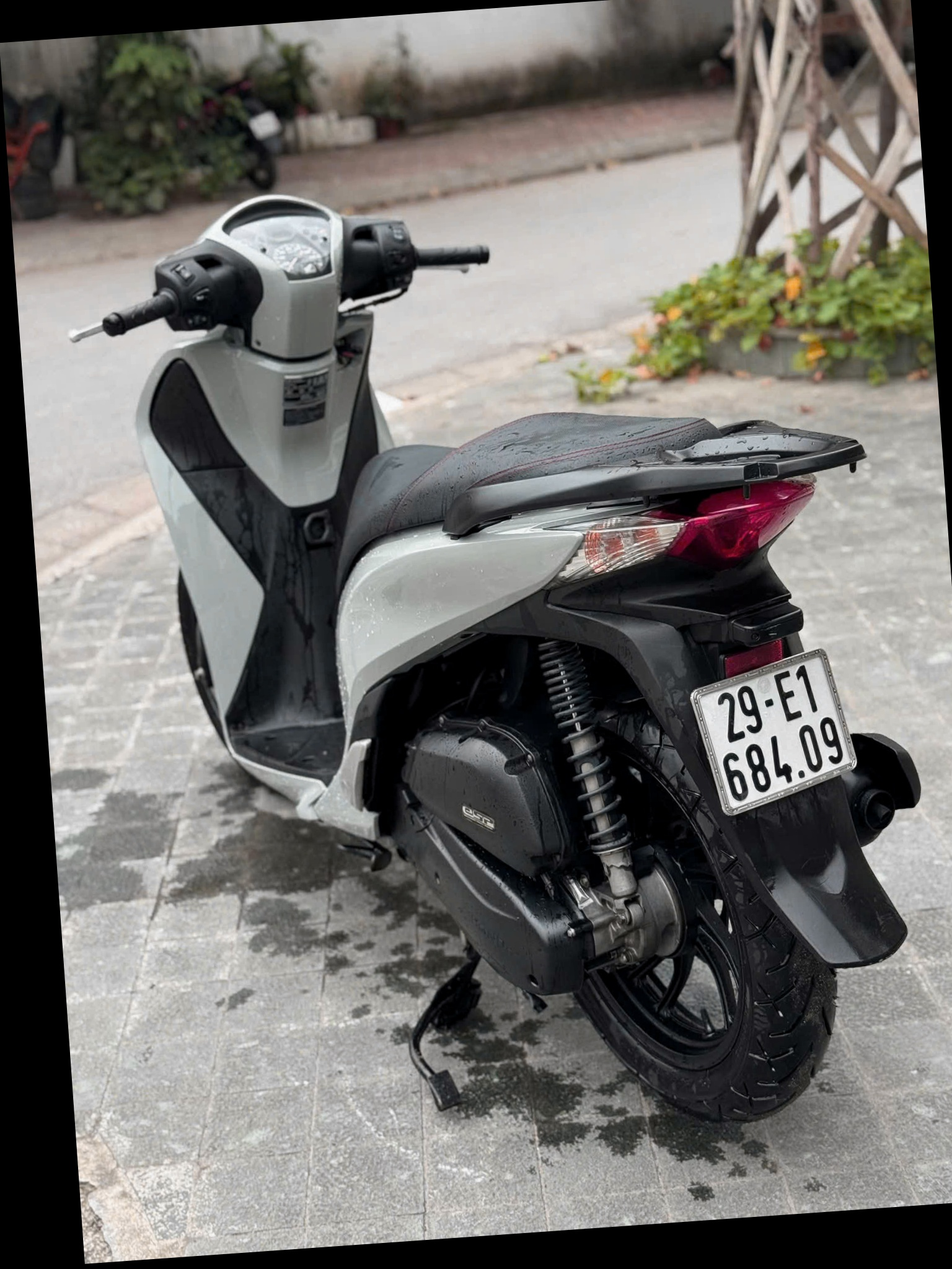Bien-so: (668, 704, 840, 891)
